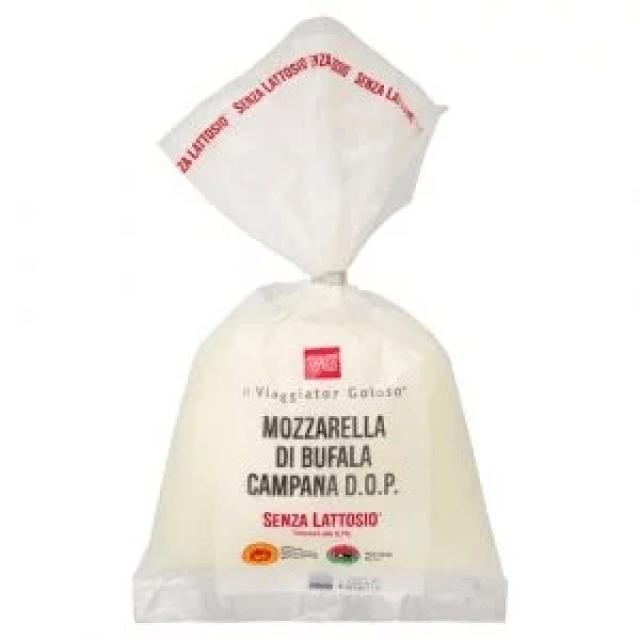Cheese: (130, 15, 510, 627)
